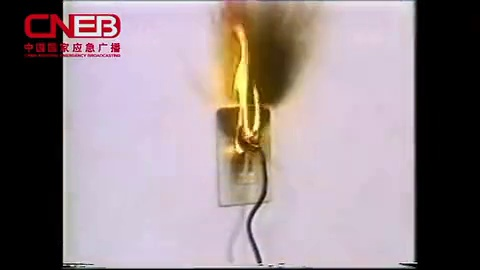fire: (224, 16, 265, 156)
